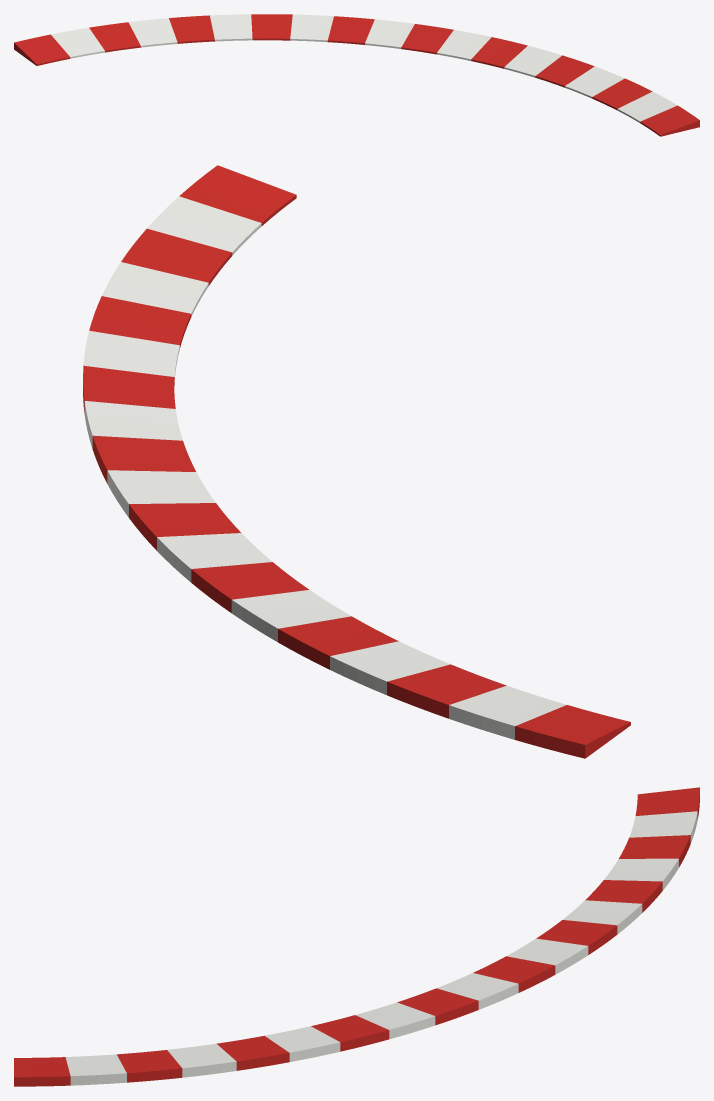
Rendered from RedWhiteApexCurve.glb.
3 views of the same model, one above another, from view 1: azimuth 30°, elevation 25°; view 2: azimuth 150°, elevation 25°; view 3: azimuth 270°, elevation 25° (orthographic). The views are drawn at different scales.
Visible parts, largest first — view 1: Kerb_19_Red, Kerb_01_Red.001, Kerb_13_Red.001, Kerb_14_White.001, Kerb_12_White.001, Kerb_11_Red.001, Kerb_15_Red.001, Kerb_16_White.001, Kerb_10_White.001, Kerb_17_Red, Kerb_09_Red.001, Kerb_18_White (+7 smaller); view 2: Kerb_19_Red, Kerb_01_Red.001, Kerb_02_White.001, Kerb_03_Red.001, Kerb_18_White, Kerb_04_White.001, Kerb_17_Red, Kerb_16_White.001, Kerb_15_Red.001, Kerb_14_White.001, Kerb_05_Red.001, Kerb_13_Red.001 (+7 smaller); view 3: Kerb_02_White.001, Kerb_03_Red.001, Kerb_05_Red.001, Kerb_04_White.001, Kerb_01_Red.001, Kerb_06_White.001, Kerb_07_Red.001, Kerb_08_White.001, Kerb_09_Red.001, Kerb_10_White.001, Kerb_11_Red.001, Kerb_12_White.001 (+7 smaller).
Part boxes in pixels (<box>): Kerb_19_Red: <box>14,34,70,65</box>; Kerb_01_Red.001: <box>640,105,699,136</box>; Kerb_13_Red.001: <box>251,14,292,40</box>; Kerb_14_White.001: <box>210,14,252,41</box>; Kerb_12_White.001: <box>290,14,333,41</box>; Kerb_11_Red.001: <box>327,16,374,44</box>; Kerb_15_Red.001: <box>169,15,214,43</box>; Kerb_16_White.001: <box>128,18,177,47</box>; Kerb_10_White.001: <box>365,19,414,48</box>; Kerb_17_Red: <box>89,22,140,52</box>; Kerb_09_Red.001: <box>401,24,453,54</box>; Kerb_18_White: <box>51,27,104,58</box>; Kerb_19_Red: <box>515,705,630,758</box>; Kerb_01_Red.001: <box>179,165,296,225</box>; Kerb_02_White.001: <box>147,196,261,255</box>; Kerb_03_Red.001: <box>121,228,232,285</box>; Kerb_18_White: <box>449,685,566,739</box>; Kerb_04_White.001: <box>102,262,208,316</box>; Kerb_17_Red: <box>387,664,506,718</box>; Kerb_16_White.001: <box>330,641,450,695</box>; Kerb_15_Red.001: <box>278,616,398,669</box>; Kerb_14_White.001: <box>231,590,351,642</box>; Kerb_05_Red.001: <box>89,296,191,347</box>; Kerb_13_Red.001: <box>191,562,309,612</box>; Kerb_02_White.001: <box>65,1054,126,1085</box>; Kerb_03_Red.001: <box>117,1050,182,1082</box>; Kerb_05_Red.001: <box>217,1035,289,1070</box>; Kerb_04_White.001: <box>167,1043,236,1077</box>; Kerb_01_Red.001: <box>14,1057,70,1086</box>; Kerb_06_White.001: <box>265,1026,340,1061</box>; Kerb_07_Red.001: <box>311,1015,389,1051</box>; Kerb_08_White.001: <box>355,1002,435,1039</box>; Kerb_09_Red.001: <box>397,988,478,1025</box>; Kerb_10_White.001: <box>437,973,518,1009</box>; Kerb_11_Red.001: <box>473,956,555,992</box>; Kerb_12_White.001: <box>506,938,588,974</box>.
Size of the model in its own units: 6.6 by 0.1 by 6.6.
